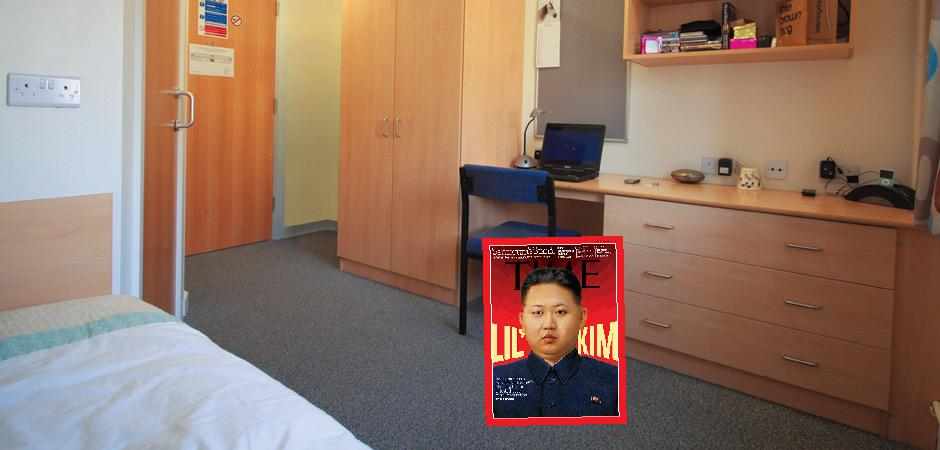times: (477, 233, 626, 425)
